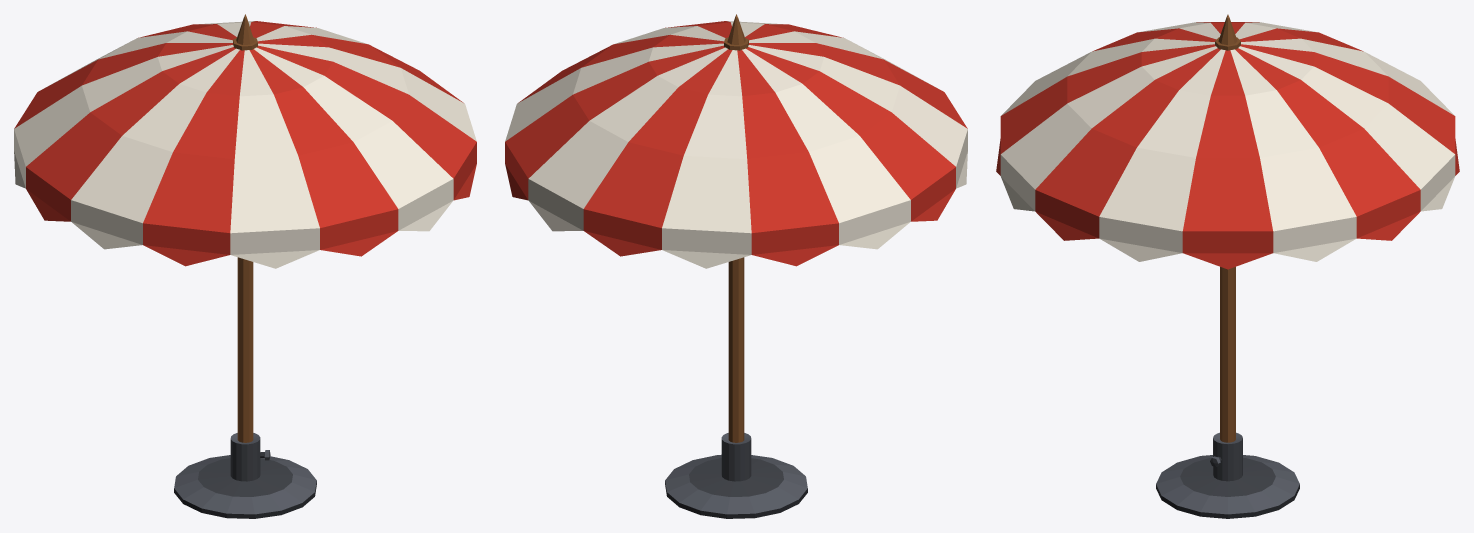
File: FMS_Stall_Umbrella.fbx
3 renders of one model, left to right at view 1: azimuth 30°, elevation 25°; view 2: azimuth 150°, elevation 25°; view 3: azimuth 270°, elevation 25°, orthographic.
Parts seen in each view (by area): view 1: item_stalls_umbrella; view 2: item_stalls_umbrella; view 3: item_stalls_umbrella.
Part boxes in pixels (x1,y1,x2,y2): item_stalls_umbrella: [14, 14, 476, 518]; item_stalls_umbrella: [505, 14, 967, 518]; item_stalls_umbrella: [996, 14, 1459, 518].
Size of the model in its own units: 2.32 by 2.62 by 2.32.
